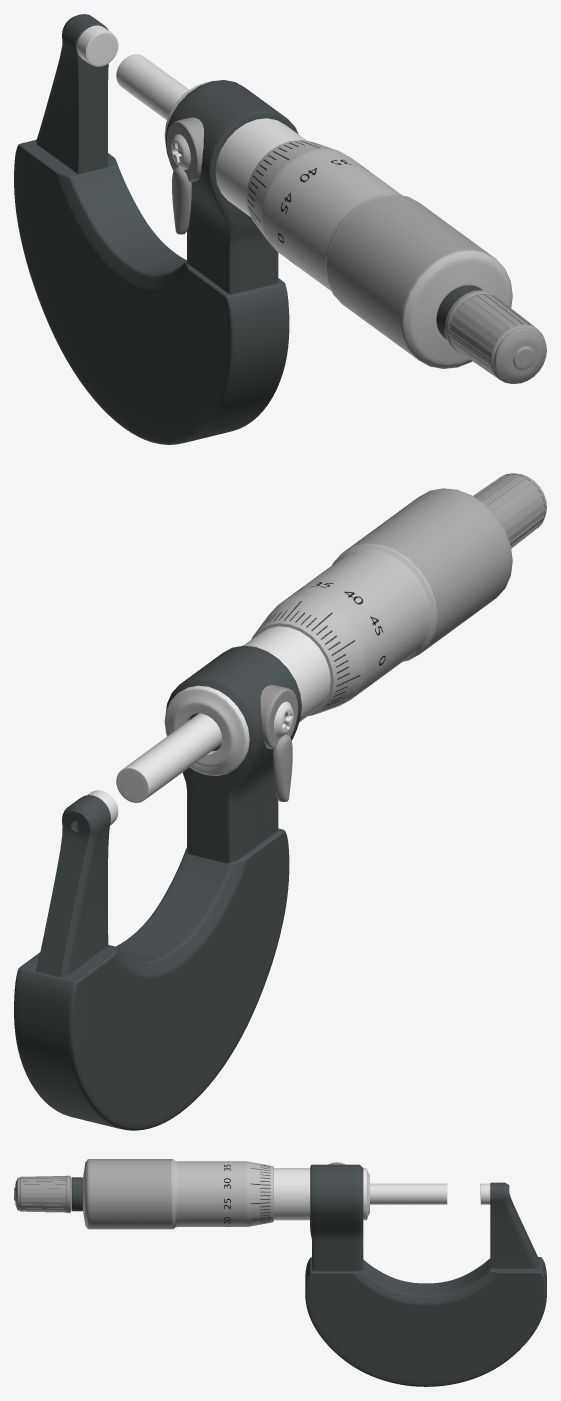
The model's file is Mikrometer sekrup.fbx.
3 renders of one model, top to bottom at view 1: azimuth 30°, elevation 25°; view 2: azimuth 150°, elevation 25°; view 3: azimuth 270°, elevation 25°, orthographic. The views are drawn at different scales.
Parts seen in each view (by area): view 1: 9_Legacy_0_0, 2_Legacy_2_0, 3_Legacy_6_0, 3_Legacy_3_0, lock, 3_Legacy_3_0.001, 4_Legacy_4_0_0, spindle, spindle.001; view 2: 9_Legacy_0_0, 2_Legacy_2_0, 3_Legacy_3_0, 3_Legacy_6_0, 4_Legacy_4_0_0, lock, spindle; view 3: 9_Legacy_0_0, 2_Legacy_2_0, 3_Legacy_3_0, 3_Legacy_6_0, 4_Legacy_4_0_0, lock, spindle, 3_Legacy_3_0.001.
Part boxes in pixels (x1=…): 9_Legacy_0_0: x1=14, y1=139, x2=289, y2=444; 2_Legacy_2_0: x1=36, y1=14, x2=482, y2=339; 3_Legacy_6_0: x1=327, y1=195, x2=495, y2=359; 3_Legacy_3_0: x1=246, y1=140, x2=418, y2=304; lock: x1=166, y1=117, x2=546, y2=383; 3_Legacy_3_0.001: x1=402, y1=250, x2=512, y2=368; 4_Legacy_4_0_0: x1=164, y1=82, x2=306, y2=216; spindle: x1=77, y1=25, x2=188, y2=120; spindle.001: x1=171, y1=134, x2=190, y2=169; 9_Legacy_0_0: x1=14, y1=828, x2=289, y2=1130; 2_Legacy_2_0: x1=36, y1=645, x2=301, y2=977; 3_Legacy_3_0: x1=251, y1=543, x2=437, y2=715; 3_Legacy_6_0: x1=344, y1=488, x2=512, y2=652; 4_Legacy_4_0_0: x1=164, y1=626, x2=330, y2=775; lock: x1=260, y1=473, x2=546, y2=801; spindle: x1=87, y1=713, x2=221, y2=825; 9_Legacy_0_0: x1=305, y1=1257, x2=546, y2=1386; 2_Legacy_2_0: x1=71, y1=1164, x2=540, y2=1271; 3_Legacy_3_0: x1=171, y1=1159, x2=273, y2=1229; 3_Legacy_6_0: x1=88, y1=1159, x2=171, y2=1229; 4_Legacy_4_0_0: x1=273, y1=1168, x2=369, y2=1220; lock: x1=14, y1=1162, x2=345, y2=1212; spindle: x1=370, y1=1183, x2=490, y2=1204; 3_Legacy_3_0.001: x1=83, y1=1159, x2=88, y2=1228.
Bounding box in the file's own units: 1.21 × 4.07 × 9.05.
6 materials, 1 textured.
